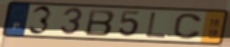3: (27, 5, 58, 36), (58, 7, 85, 37)
5: (116, 11, 143, 38)
B: (84, 8, 117, 37)
C: (172, 12, 204, 41)
L: (144, 11, 168, 39)
